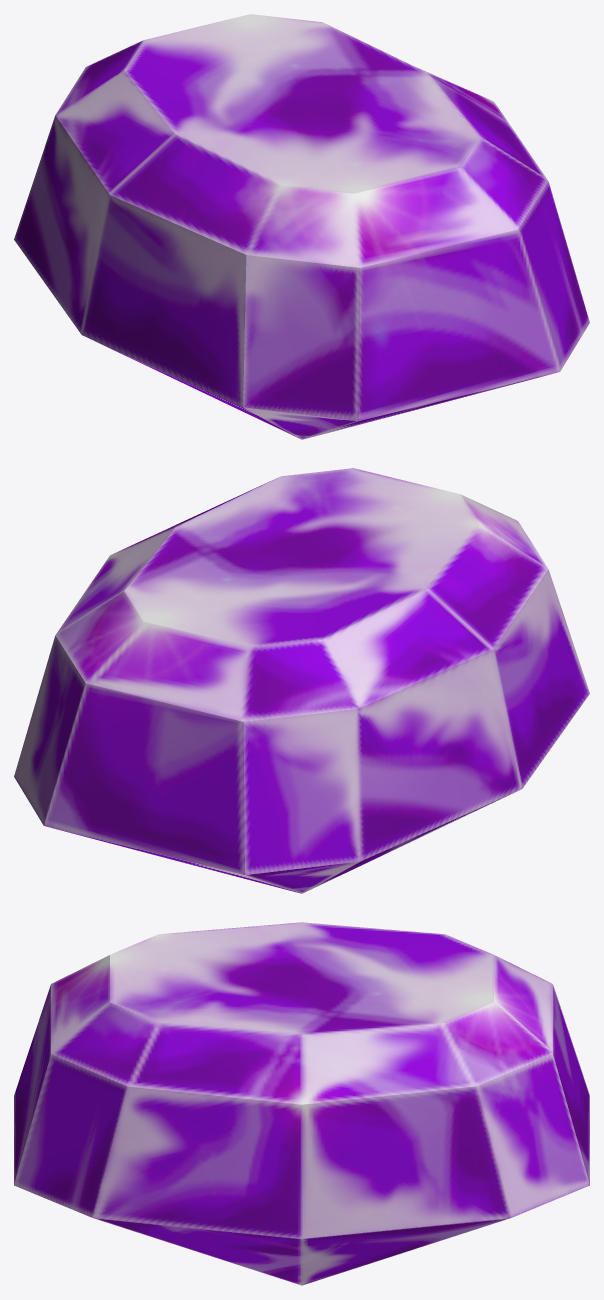
Rendered from stone_purple_005.fbx.
3 views of the same model, one above another, from view 1: azimuth 30°, elevation 25°; view 2: azimuth 150°, elevation 25°; view 3: azimuth 270°, elevation 25° (orthographic). The views are drawn at different scales.
Parts seen in each view (by area): view 1: stone; view 2: stone; view 3: stone.
Boxes of the visible parts, x1,y1,x2,y2 form: stone: [14, 14, 589, 439]; stone: [14, 468, 589, 893]; stone: [14, 922, 589, 1285].
Bounding box in the file's own units: 6.66 × 4.85 × 8.24.
